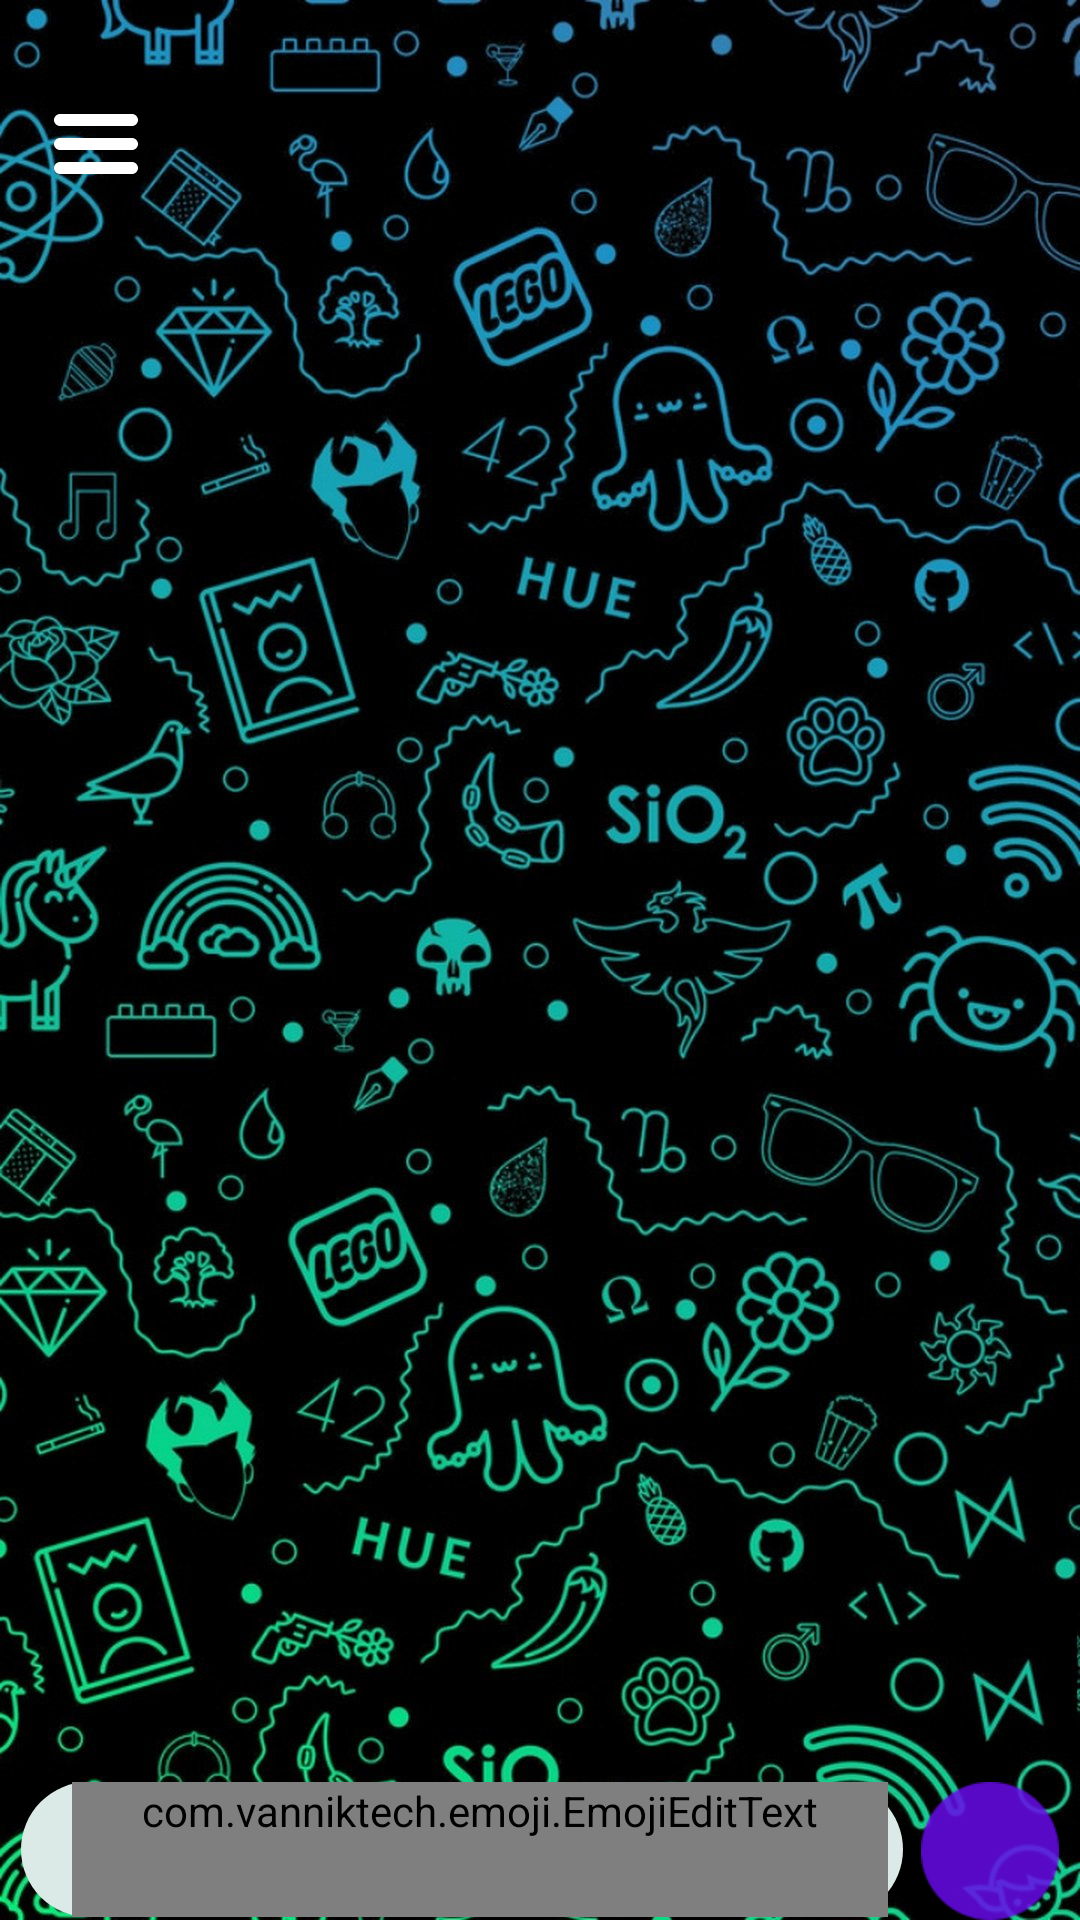

Icons on this 1080*1920 Android screen, each with the point to tap as (x,y):
burger: (96,153)
